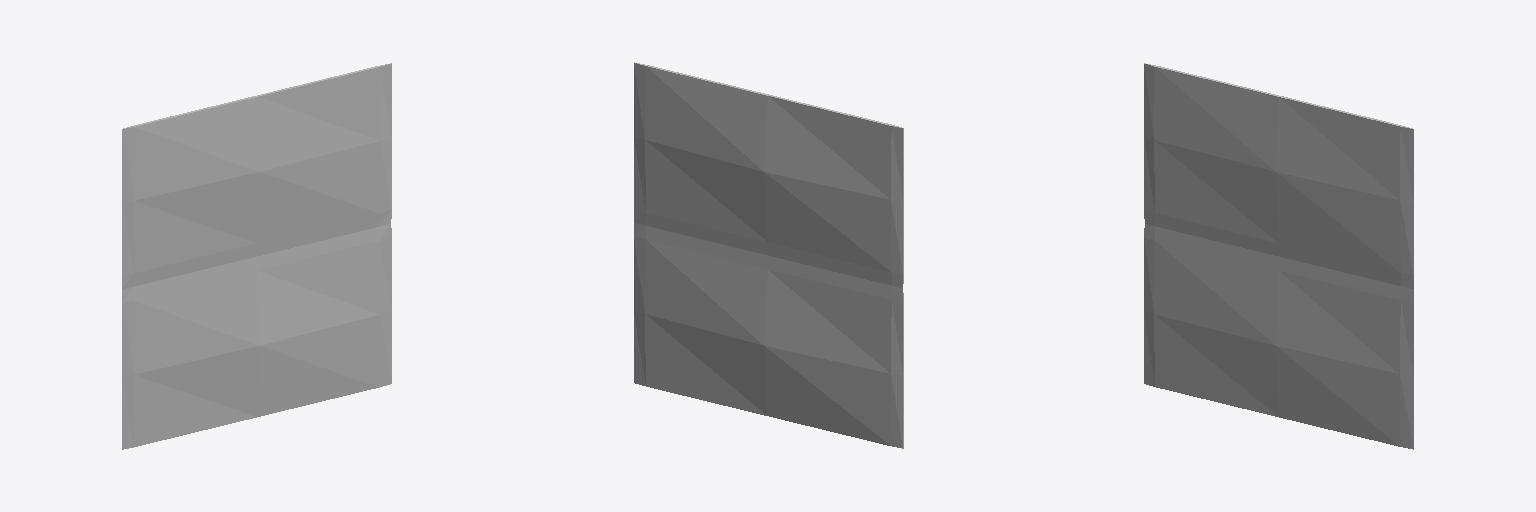
File: saltandpepper_packet_01.obj
3 renders of one model, left to right at view 1: azimuth 30°, elevation 25°; view 2: azimuth 150°, elevation 25°; view 3: azimuth 330°, elevation 25°, orthographic.
Parts seen in each view (by area): view 1: SaltandPepperPacket.001_Cube.006; view 2: SaltandPepperPacket.001_Cube.006; view 3: SaltandPepperPacket.001_Cube.006.
Boxes of the visible parts, <box> form: SaltandPepperPacket.001_Cube.006: <box>122,63,391,449</box>; SaltandPepperPacket.001_Cube.006: <box>634,62,903,448</box>; SaltandPepperPacket.001_Cube.006: <box>1144,63,1413,449</box>.
Size of the model in its own units: 0.0373 by 0.0423 by 0.0019.